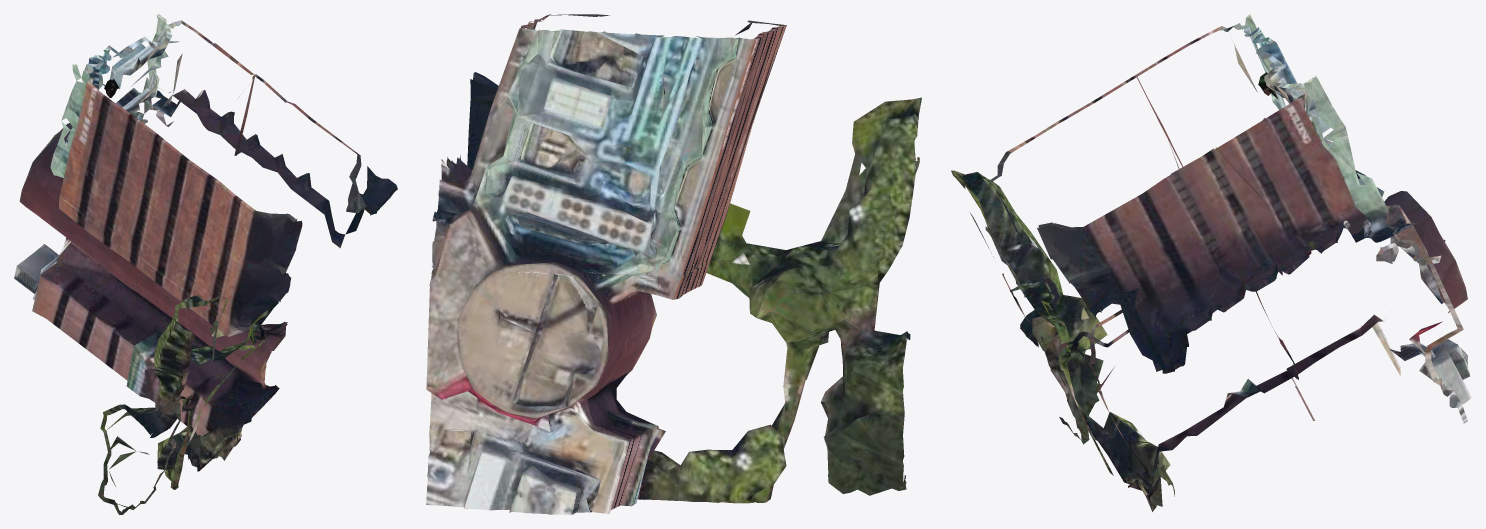
File: AJVsH2xIX4faSgIof5A6IsGPOQdckNeFoN5J3kC5-Bz_RkmFUYCMgi8qwJdK7CU1da6wx8dtMoXpqYxhEx7aAeRuMuBlxEZzhdfyB7KoMC-ukGdiEm71Zv3atnsRmRvwzKfP7jwEsU6LuDQWI7xjqFatlTAI.glb
The picture shows the model from 3 angles, left to right: view 1: azimuth 30°, elevation 25°; view 2: azimuth 150°, elevation 25°; view 3: azimuth 270°, elevation 25°; orthographic projection. The views are drawn at different scales.
Size of the model in its own units: 38.51 by 47.2 by 50.56.
Materials: 1 (1 with a texture image).
